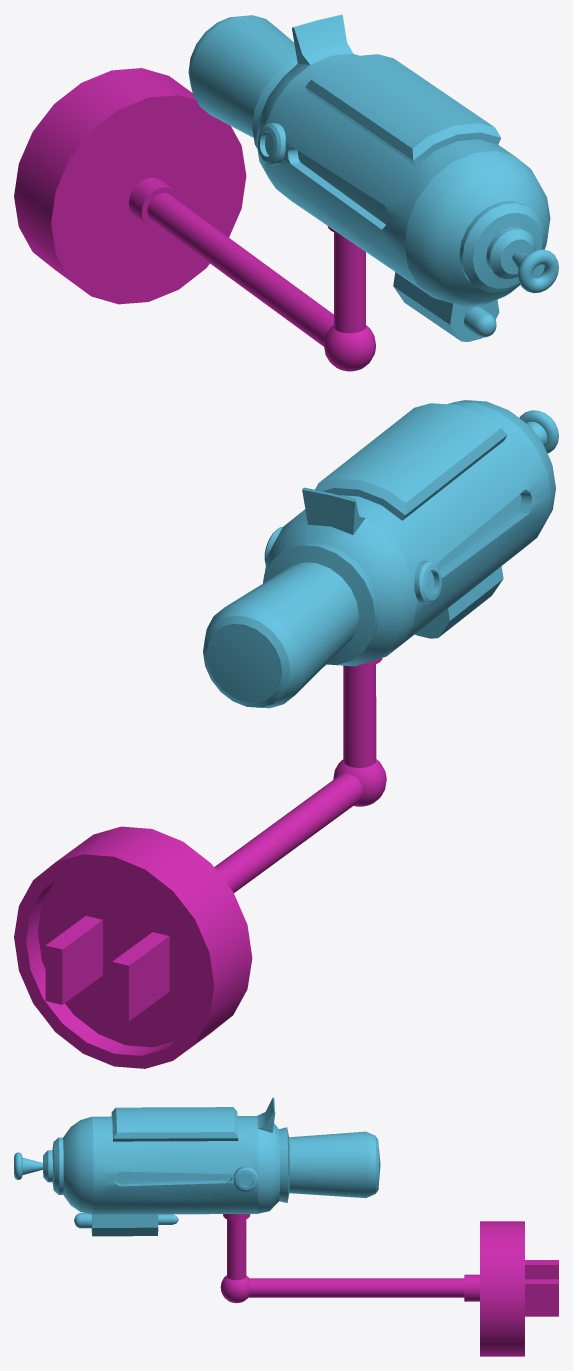
Rendered from PaintBlaster.fbx.
3 renders of one model, top to bottom at view 1: azimuth 30°, elevation 25°; view 2: azimuth 150°, elevation 25°; view 3: azimuth 270°, elevation 25°, orthographic. The views are drawn at different scales.
Visible parts, largest first — view 1: blaster, slot, ligament (×2), joint; view 2: blaster, slot, ligament (×2), joint; view 3: blaster, slot, ligament (×2), joint.
Part boxes in pixels (x1,y1,x2,y2): blaster: (188,14,558,341); slot: (14,68,246,304); ligament (×2): (129,177,365,346); joint: (324,325,375,371); blaster: (203,400,558,708); slot: (14,826,252,1068); ligament (×2): (214,658,382,892); joint: (333,759,386,806); blaster: (14,1097,380,1236); slot: (480,1221,558,1356); ligament (×2): (223,1214,479,1301); joint: (220,1275,249,1303).
Bounding box in the file's own units: 2 × 3.98 × 8.01.
